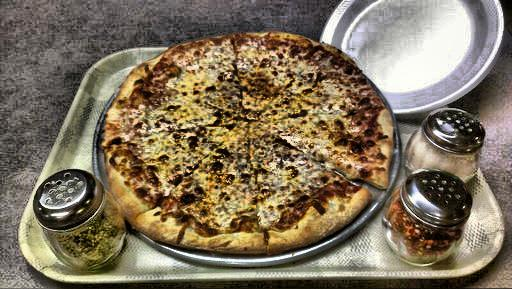pizza: (104, 31, 426, 278)
